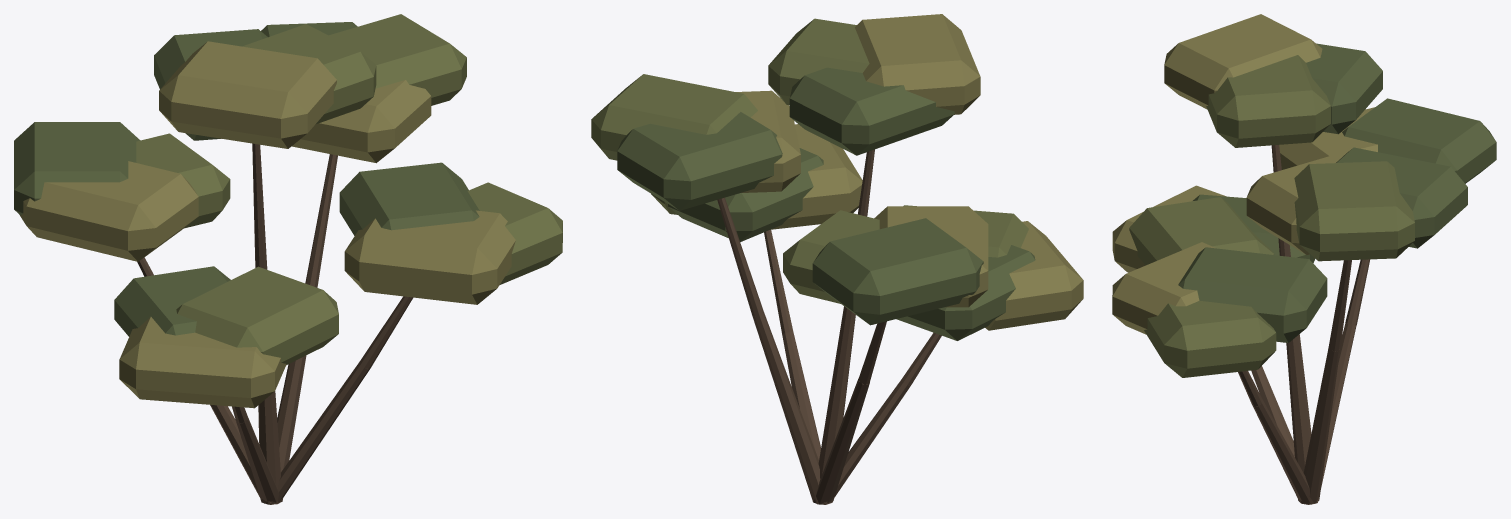
The model's file is elderberry_autumn_picked.glb.
3 views of the same model, side by side, from view 1: azimuth 30°, elevation 25°; view 2: azimuth 150°, elevation 25°; view 3: azimuth 270°, elevation 25° (orthographic). The views are drawn at different scales.
Visible parts, largest first — view 1: elderberry_autumn_picked; view 2: elderberry_autumn_picked; view 3: elderberry_autumn_picked.
Boxes of the visible parts, <box> form: elderberry_autumn_picked: <box>14,14,562,504</box>; elderberry_autumn_picked: <box>591,14,1083,504</box>; elderberry_autumn_picked: <box>1112,14,1496,504</box>.
Bounding box in the file's own units: 2.16 × 2.24 × 1.8.
